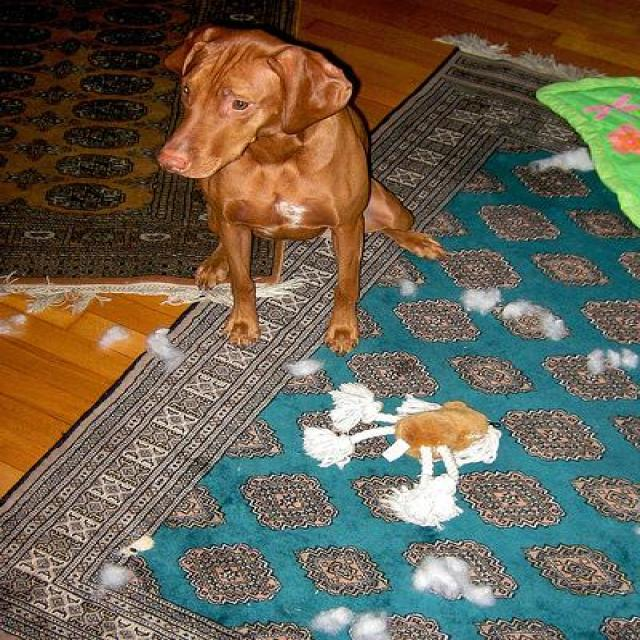vizsla: (156, 27, 442, 353)
